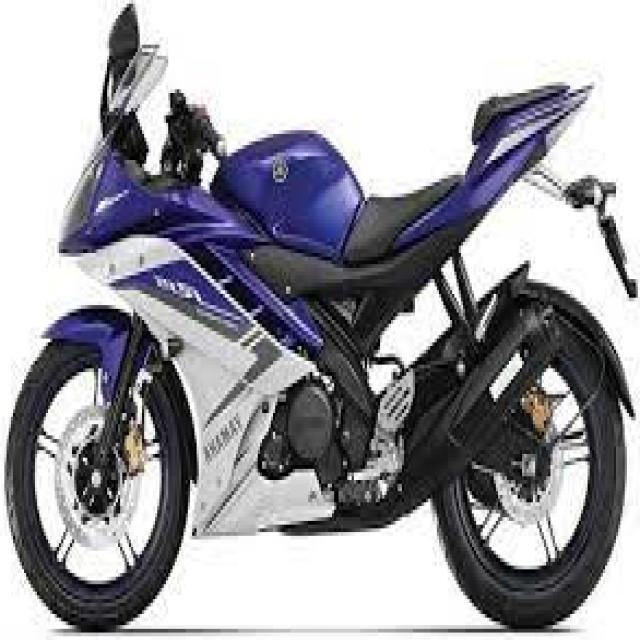bike: (6, 2, 639, 631)
